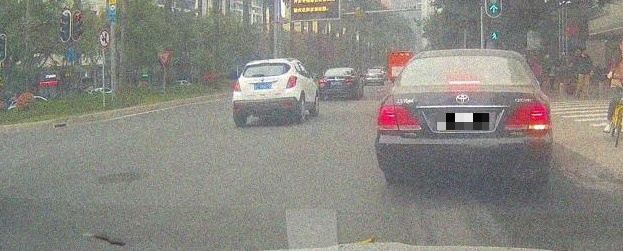L_light: (376, 104, 422, 130), (233, 80, 242, 92), (319, 78, 328, 83)
R_light: (505, 101, 551, 130), (285, 75, 297, 90), (345, 77, 355, 83)
T_light: (449, 80, 481, 85), (260, 63, 271, 65), (336, 69, 343, 70)
day-brake: (376, 49, 553, 184)
day-no: (232, 58, 298, 126), (319, 67, 356, 100)
plate_1: (437, 113, 489, 130)
